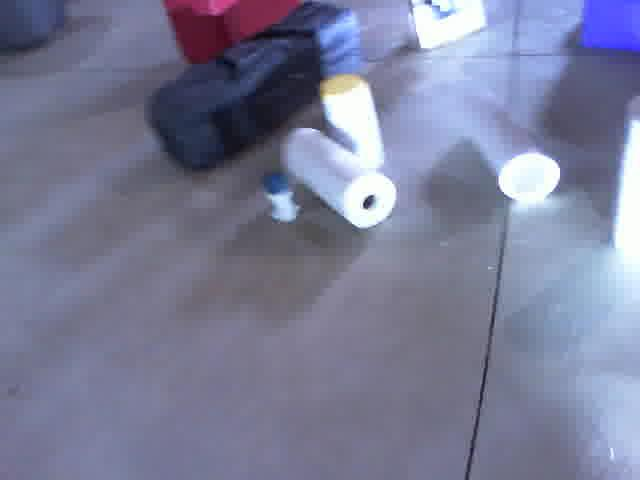coral: (464, 85, 562, 202), (606, 85, 640, 263)
